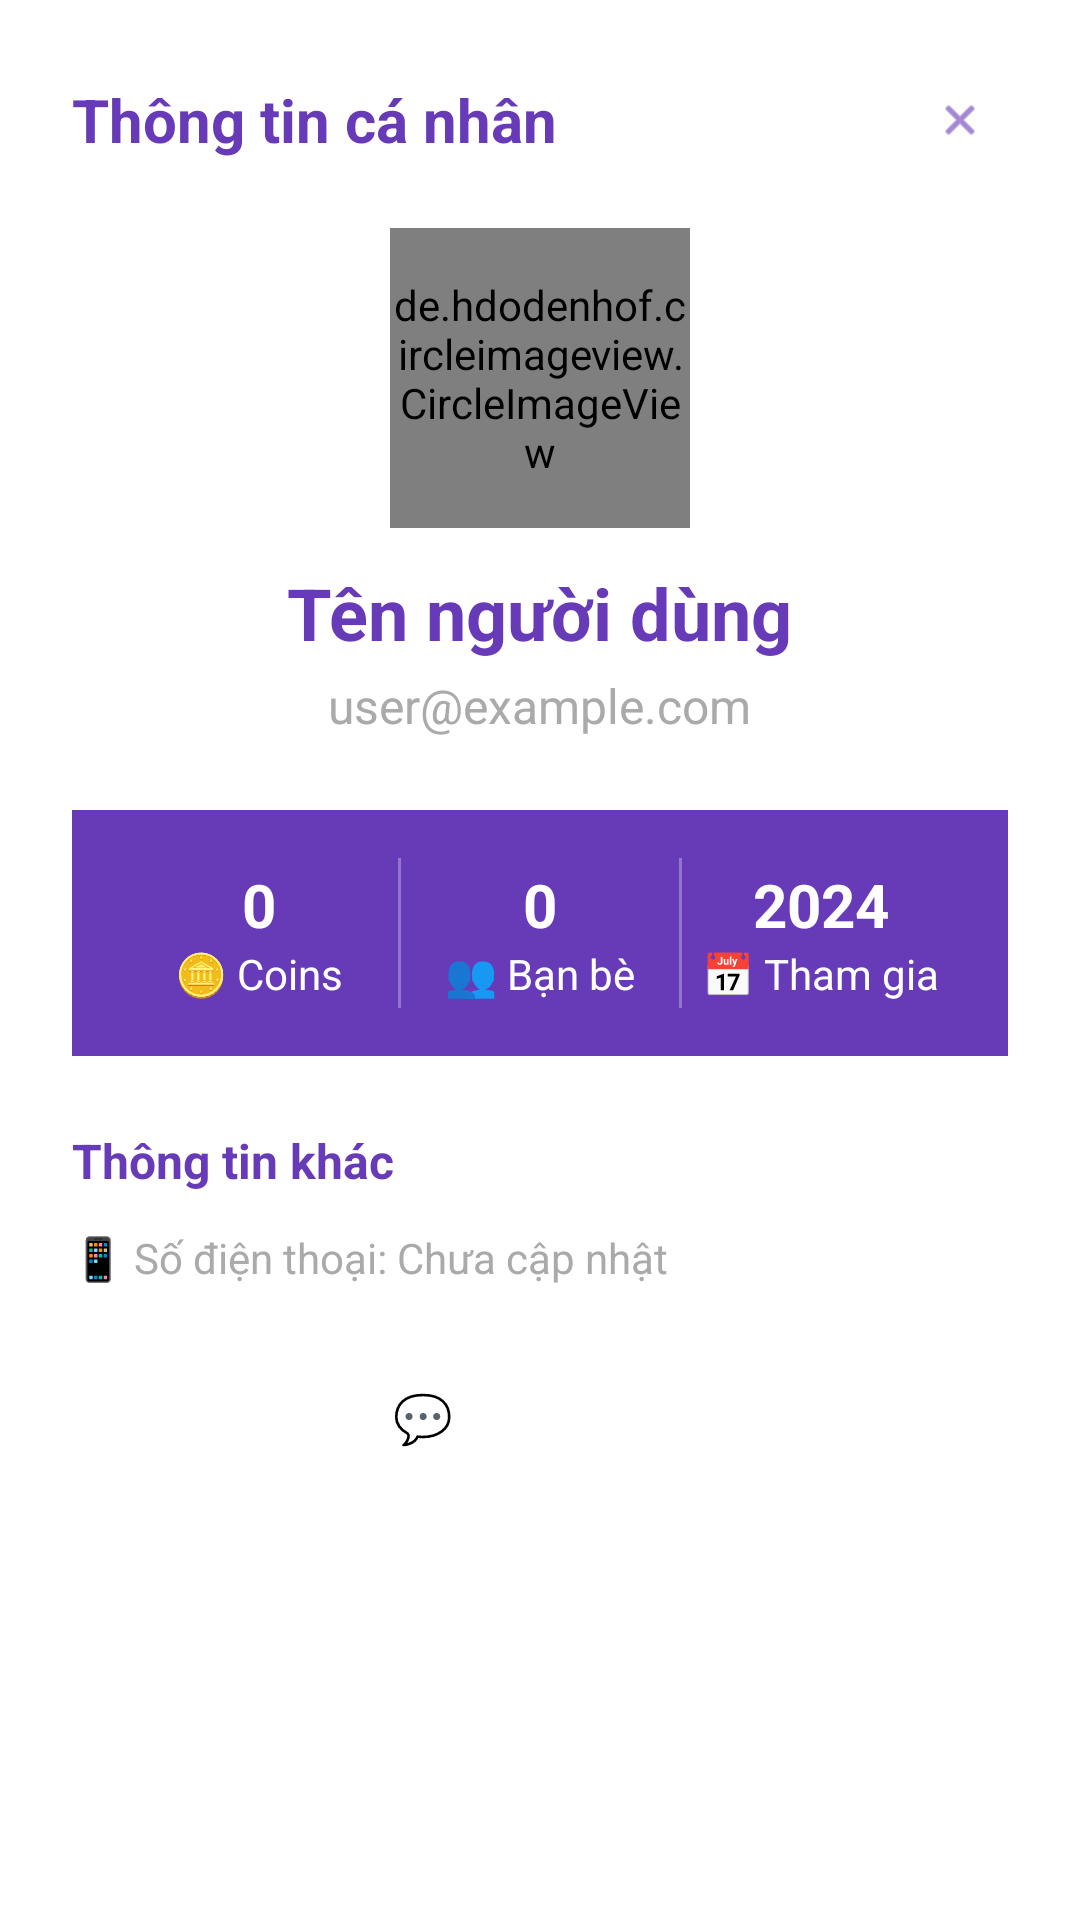

Icons on this 1080px x 1920px Android screen, each with the point to tap as [x,y]:
close clear cancel: [960,120]
